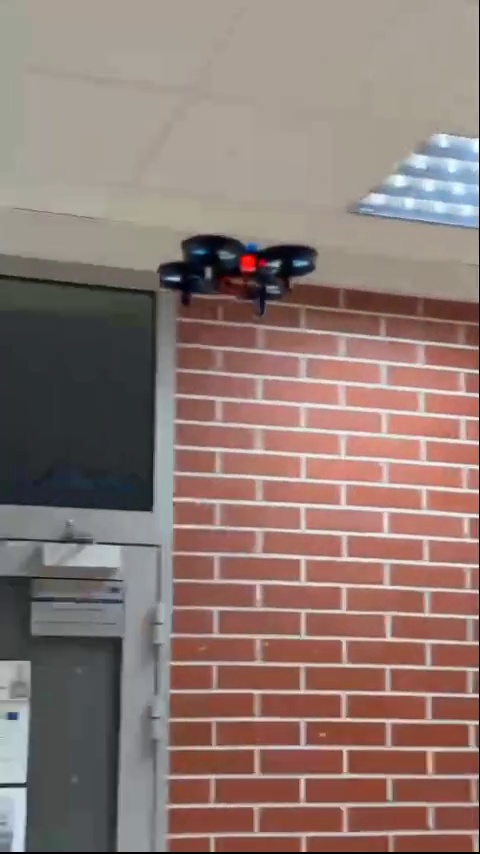drone: (154, 231, 317, 318)
